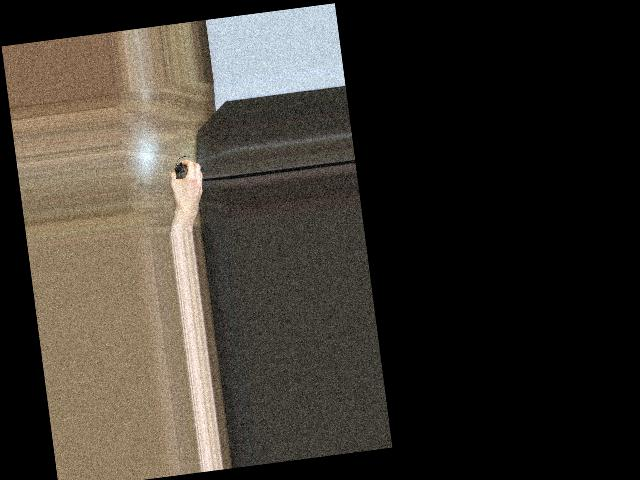beet: (172, 154, 192, 179)
